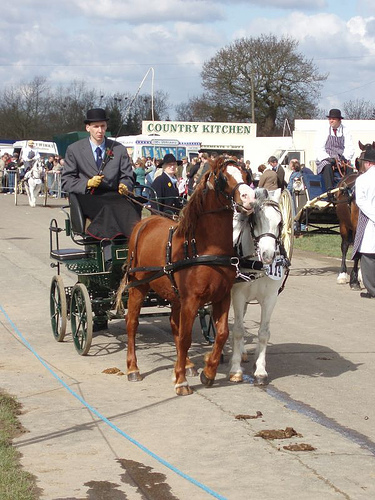horse: (121, 151, 258, 397), (227, 180, 298, 387)
